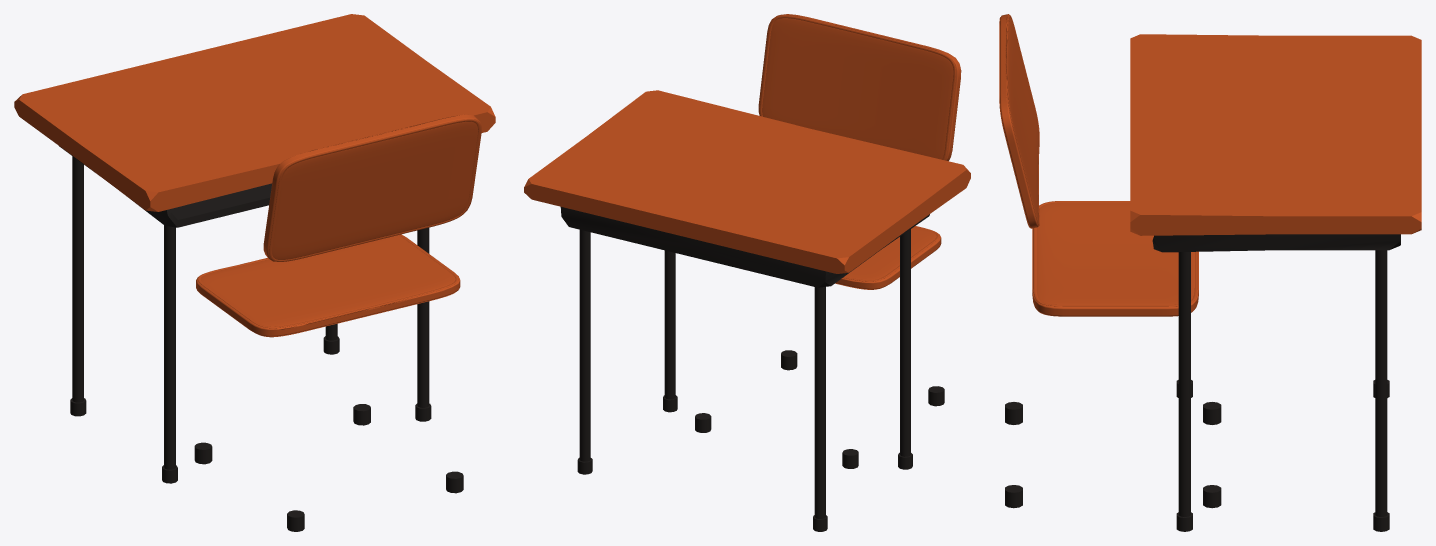
The model's file is 책상의자.FBX.
3 views of the same model, side by side, from view 1: azimuth 30°, elevation 25°; view 2: azimuth 150°, elevation 25°; view 3: azimuth 270°, elevation 25° (orthographic). The views are drawn at different scales.
Visible parts, largest first — view 1: Box001, Box003, Box002 (×2), Cylinder001, Cylinder006, Cylinder008; view 2: Box001, Box003, Box002 (×2), Cylinder006, Cylinder010, Cylinder001, Cylinder008; view 3: Box001, Box002 (×2), Box003, Cylinder010, Cylinder008.
Boxes of the visible parts, bbox=[...] form: Box001: bbox=[14, 14, 495, 211]; Box003: bbox=[263, 114, 481, 261]; Box002 (×2): bbox=[59, 146, 460, 337]; Cylinder001: bbox=[164, 225, 175, 469]; Cylinder006: bbox=[72, 156, 83, 402]; Cylinder008: bbox=[417, 227, 429, 407]; Box001: bbox=[524, 90, 970, 273]; Box003: bbox=[758, 14, 961, 161]; Box002 (×2): bbox=[560, 207, 941, 289]; Cylinder006: bbox=[814, 287, 825, 518]; Cylinder010: bbox=[579, 229, 590, 461]; Cylinder001: bbox=[900, 229, 910, 456]; Cylinder008: bbox=[664, 250, 675, 399]; Box001: bbox=[1130, 34, 1421, 235]; Box002 (×2): bbox=[1032, 201, 1400, 316]; Box003: bbox=[999, 14, 1039, 228]; Cylinder010: bbox=[1375, 250, 1387, 516]; Cylinder008: bbox=[1178, 252, 1190, 516].
Bounding box in the file's own units: 57.54 × 60.02 × 56.87.
